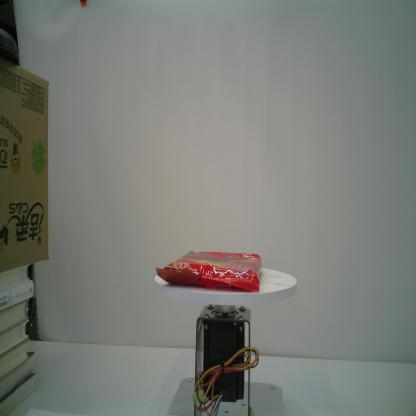Dessert: (155, 250, 264, 293)
